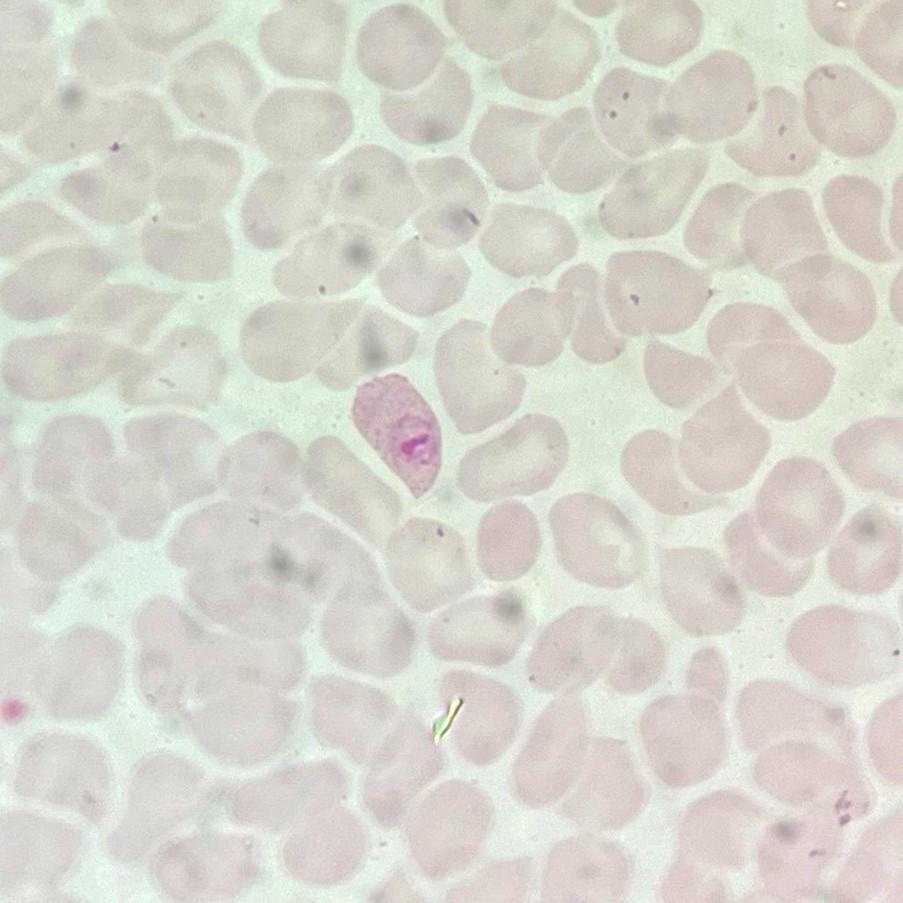Infected: (350, 371, 442, 499)
Uninfected: (21, 82, 187, 206), (252, 767, 371, 888), (104, 748, 221, 864), (710, 314, 832, 421), (300, 432, 411, 547), (737, 453, 845, 569), (237, 295, 370, 387), (21, 409, 125, 525), (117, 411, 227, 520), (524, 604, 650, 697), (666, 790, 769, 900), (16, 623, 125, 726), (313, 571, 419, 676), (179, 672, 298, 765), (139, 140, 246, 243), (595, 151, 713, 244), (3, 326, 145, 403), (434, 319, 529, 434), (508, 694, 605, 806), (397, 776, 498, 882), (671, 386, 769, 494), (354, 711, 446, 825), (752, 799, 857, 898), (653, 50, 757, 149), (781, 602, 896, 691), (544, 493, 645, 594), (164, 42, 267, 141), (309, 675, 412, 774), (451, 414, 564, 503), (120, 320, 229, 412), (616, 433, 728, 522), (320, 142, 426, 236), (271, 218, 388, 303), (632, 688, 729, 790), (13, 726, 116, 822), (600, 251, 713, 338), (734, 679, 848, 765), (725, 81, 824, 179), (242, 166, 346, 259), (494, 15, 601, 105), (3, 242, 119, 325), (426, 667, 521, 768), (771, 255, 876, 346), (801, 60, 895, 161), (555, 731, 650, 829), (375, 58, 475, 151), (67, 12, 175, 96), (12, 497, 103, 596), (378, 517, 472, 612), (374, 230, 474, 319), (735, 187, 833, 277), (466, 103, 562, 194), (653, 543, 747, 635), (351, 3, 449, 91), (747, 735, 855, 813), (253, 1, 354, 84), (590, 66, 681, 158), (248, 85, 352, 165), (424, 589, 529, 668), (536, 109, 629, 198), (213, 427, 307, 515), (474, 201, 576, 281), (151, 828, 264, 900), (557, 265, 634, 368), (821, 504, 903, 600), (486, 285, 576, 372), (404, 153, 491, 243), (137, 211, 238, 286), (817, 172, 896, 266), (2, 807, 85, 895), (535, 829, 633, 901), (80, 279, 183, 347), (1, 195, 91, 272), (684, 182, 764, 267), (637, 336, 727, 411), (831, 415, 900, 505), (473, 498, 545, 584), (612, 1, 704, 67)
